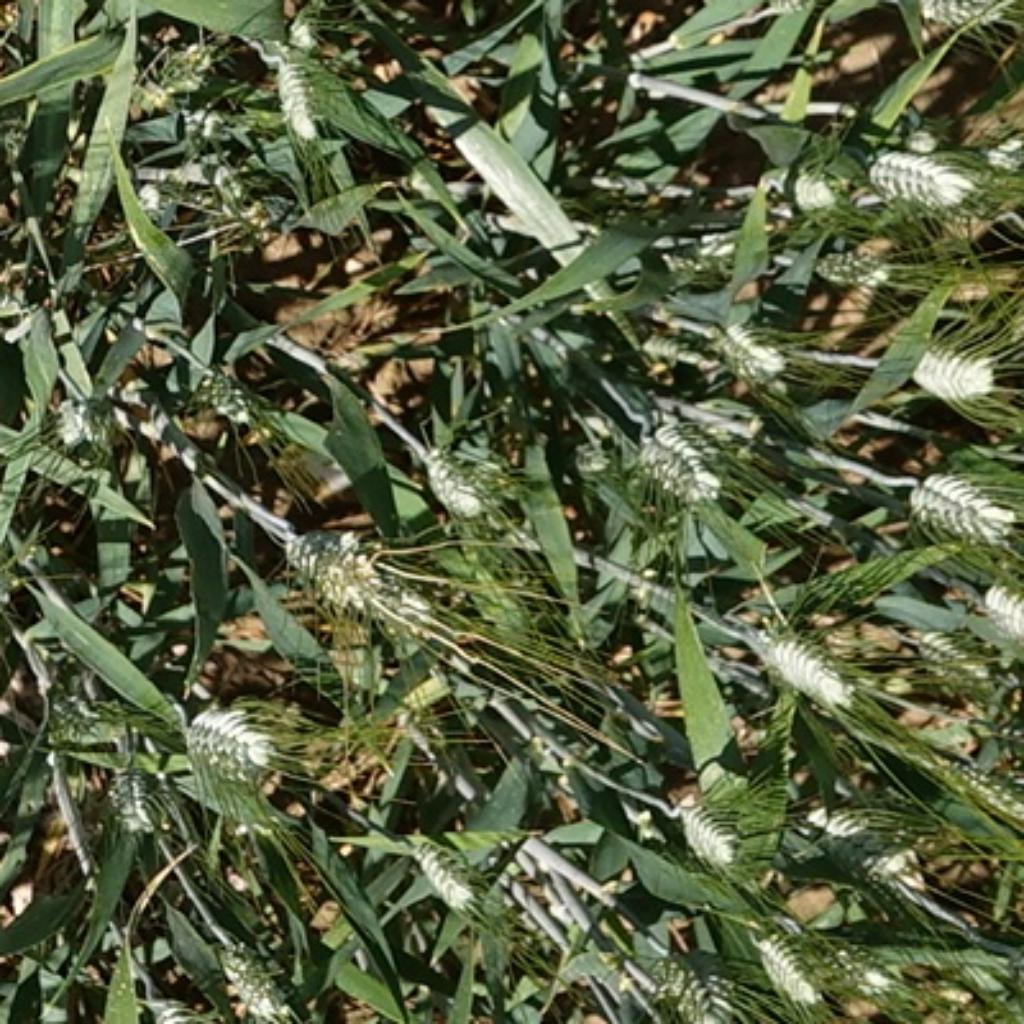0-0: (604, 396, 775, 529), (289, 520, 438, 645), (801, 796, 944, 903), (182, 692, 292, 802), (737, 604, 855, 706), (660, 926, 778, 1024), (736, 916, 835, 1016), (412, 424, 514, 519), (898, 455, 1008, 537), (668, 783, 757, 878), (754, 151, 854, 235), (51, 376, 148, 460), (869, 147, 986, 216), (220, 929, 304, 1024), (828, 933, 923, 1016), (263, 50, 341, 149), (909, 345, 1011, 419), (908, 616, 998, 696), (181, 348, 273, 422), (97, 752, 174, 837), (706, 320, 798, 391), (399, 824, 478, 906), (145, 28, 220, 92), (972, 578, 1024, 665), (806, 235, 896, 284), (914, 0, 1006, 47), (125, 975, 204, 1024), (135, 168, 184, 235), (280, 6, 335, 52), (933, 968, 977, 1018)
